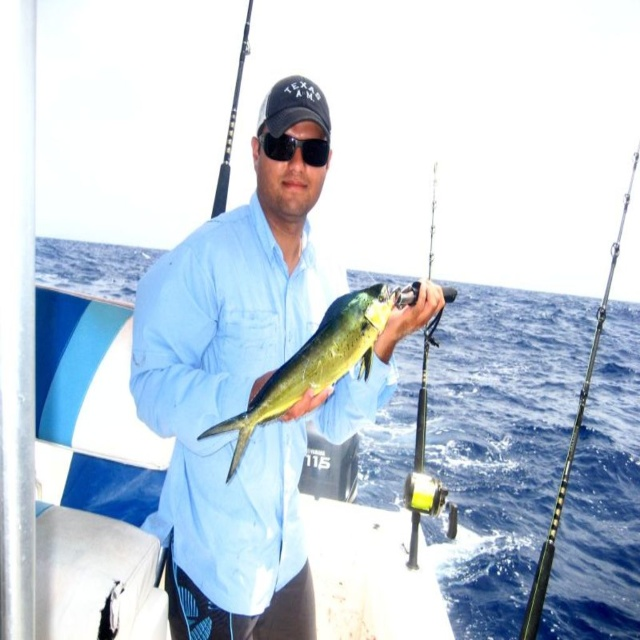Fish: (197, 282, 397, 485)
